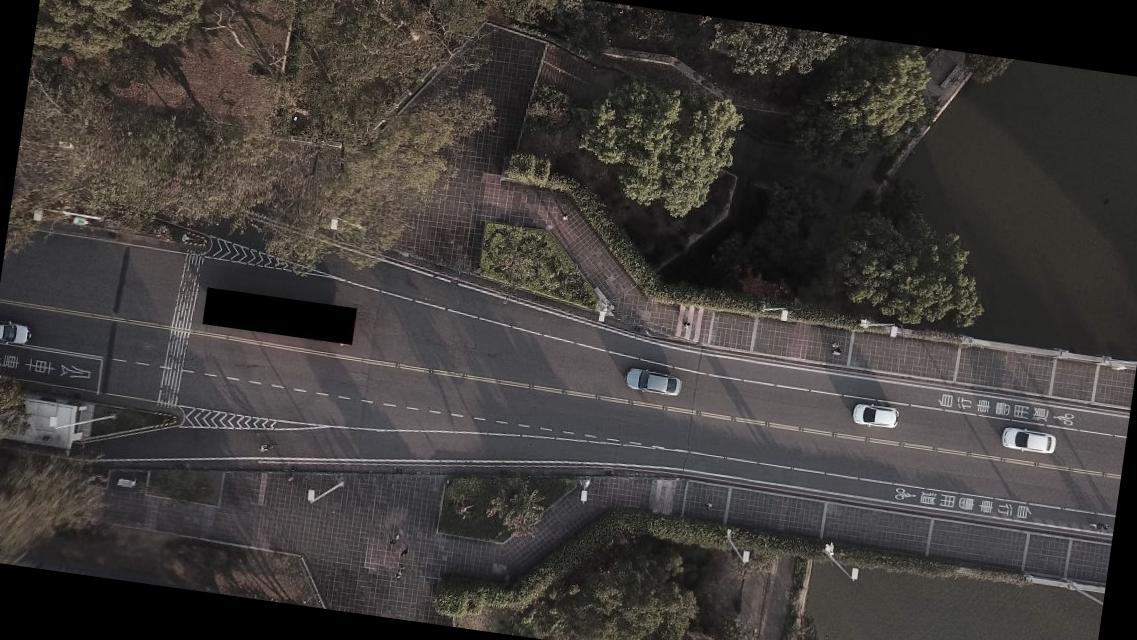vehicle: (623, 364, 683, 398), (1000, 424, 1058, 456), (851, 402, 900, 432), (0, 317, 33, 350)
